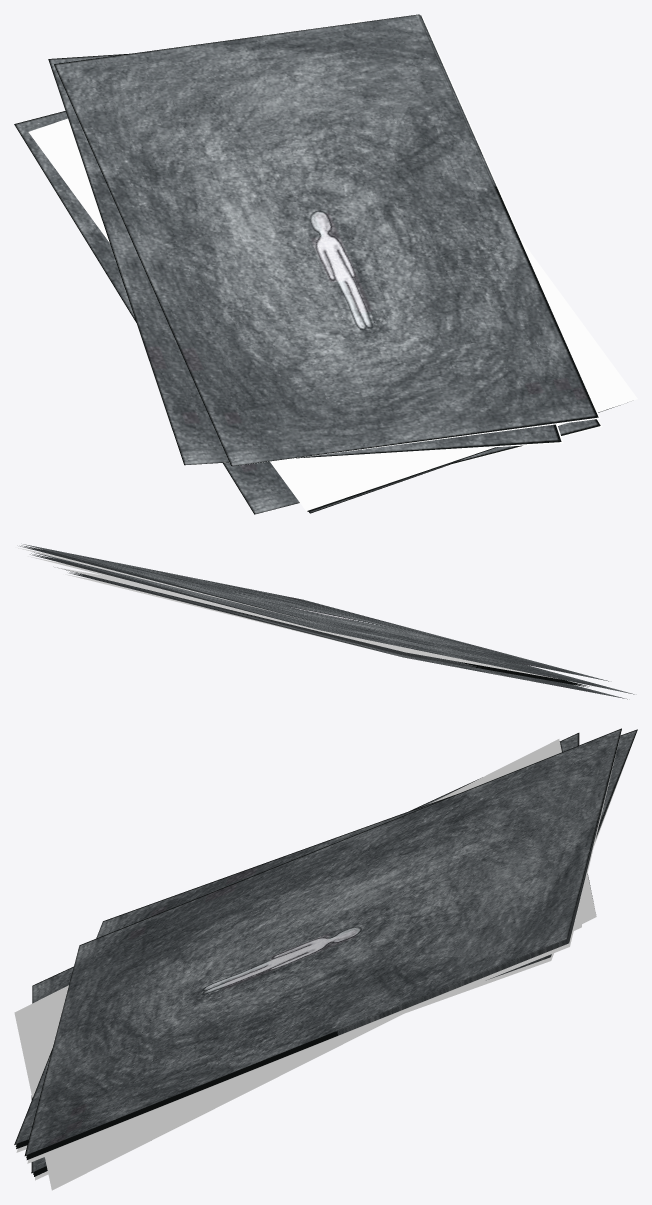
The model's file is tisina.glb.
The picture shows the model from 3 angles, top to bottom: view 1: azimuth 30°, elevation 25°; view 2: azimuth 150°, elevation 25°; view 3: azimuth 270°, elevation 25°; orthographic projection. The views are drawn at different scales.
Parts seen in each view (by area): view 1: tisina; view 2: tisina; view 3: tisina.
Part boxes in pixels (box(x1,y1,x2,y2)): tisina: box(14, 14, 637, 514); tisina: box(18, 544, 634, 699); tisina: box(14, 728, 637, 1190).
Bounding box in the file's own units: 0.958 × 0.5312 × 1.02.
Materials: 8 (8 with a texture image).
